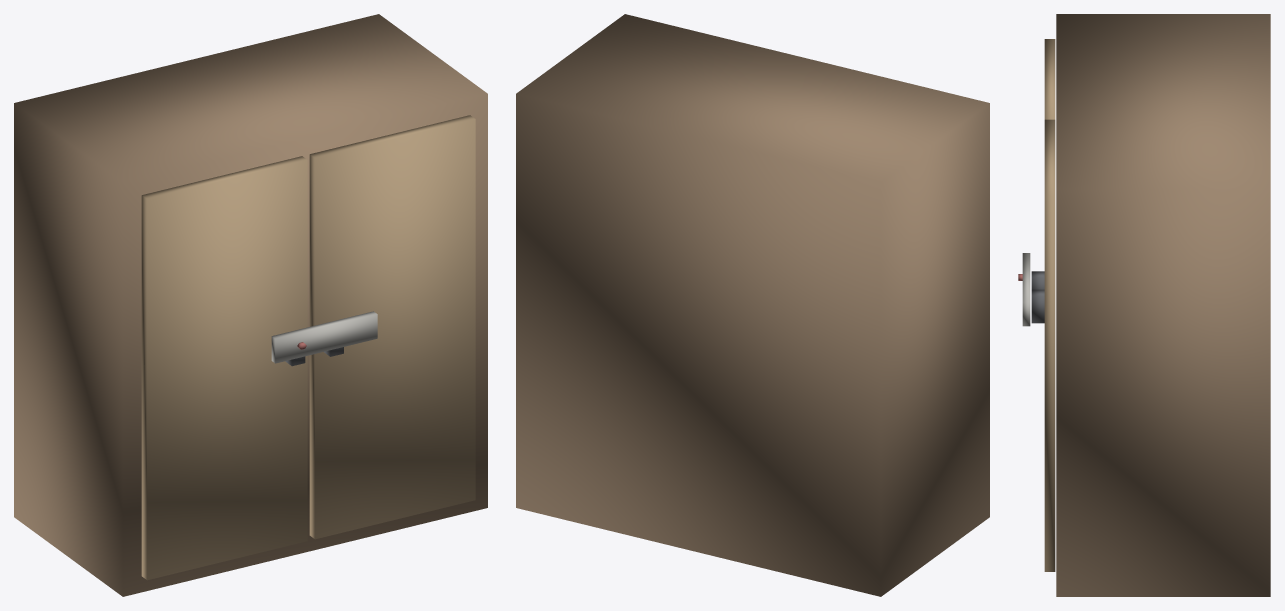
The model's file is mechanical_control_cabinet__squat.glb.
The picture shows the model from 3 angles, left to right: view 1: azimuth 30°, elevation 25°; view 2: azimuth 150°, elevation 25°; view 3: azimuth 270°, elevation 25°; orthographic projection.
Parts seen in each view (by area): view 1: world; view 2: world; view 3: world.
Part boxes in pixels (box(x1,y1,x2,y2)): world: box(14, 14, 487, 596); world: box(516, 14, 989, 596); world: box(1018, 14, 1270, 596).
Bounding box in the file's own units: 1.04 × 1.13 × 0.6356.
